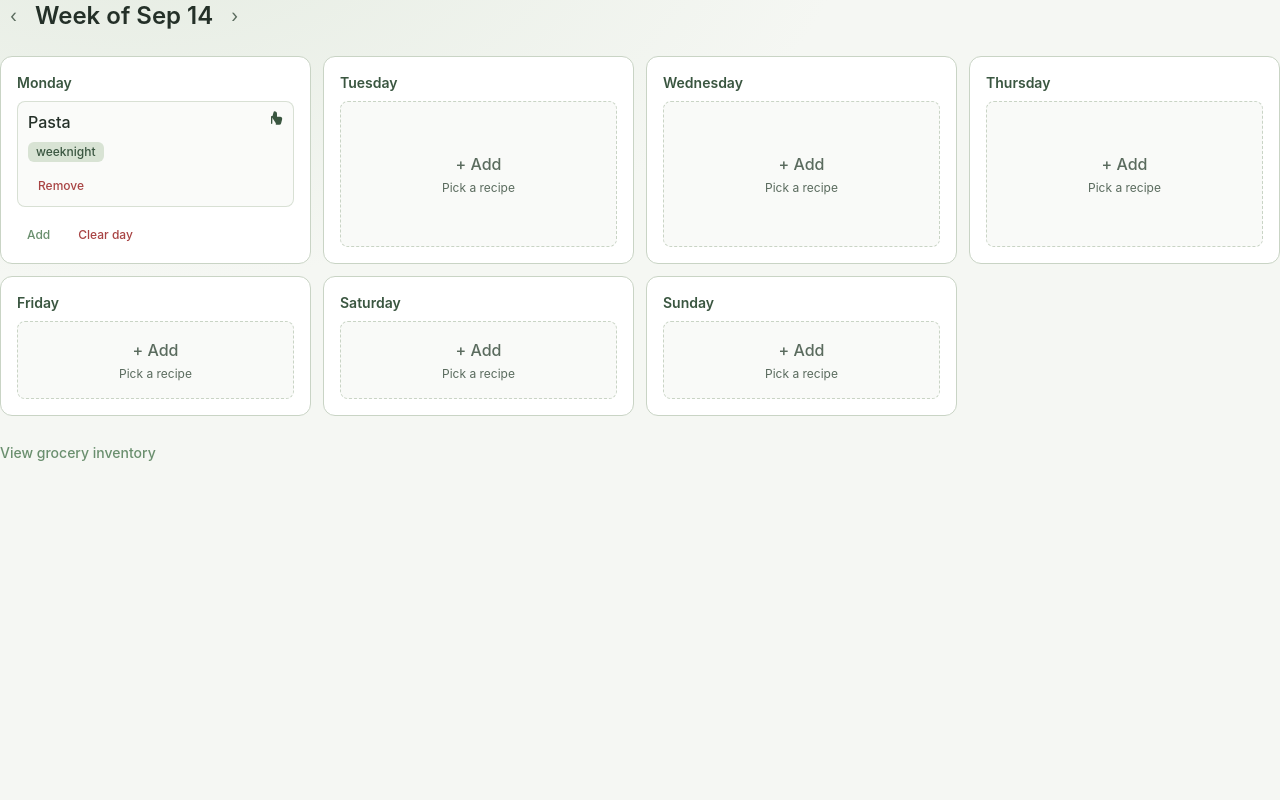
Test case: WeeklyBoardPage › adds a second recipe without removing the first
Expected: the text "Pasta" is shown, [28,110,70,134]
Click the button "Add".
click(39, 235)  # box [17,223,60,247]
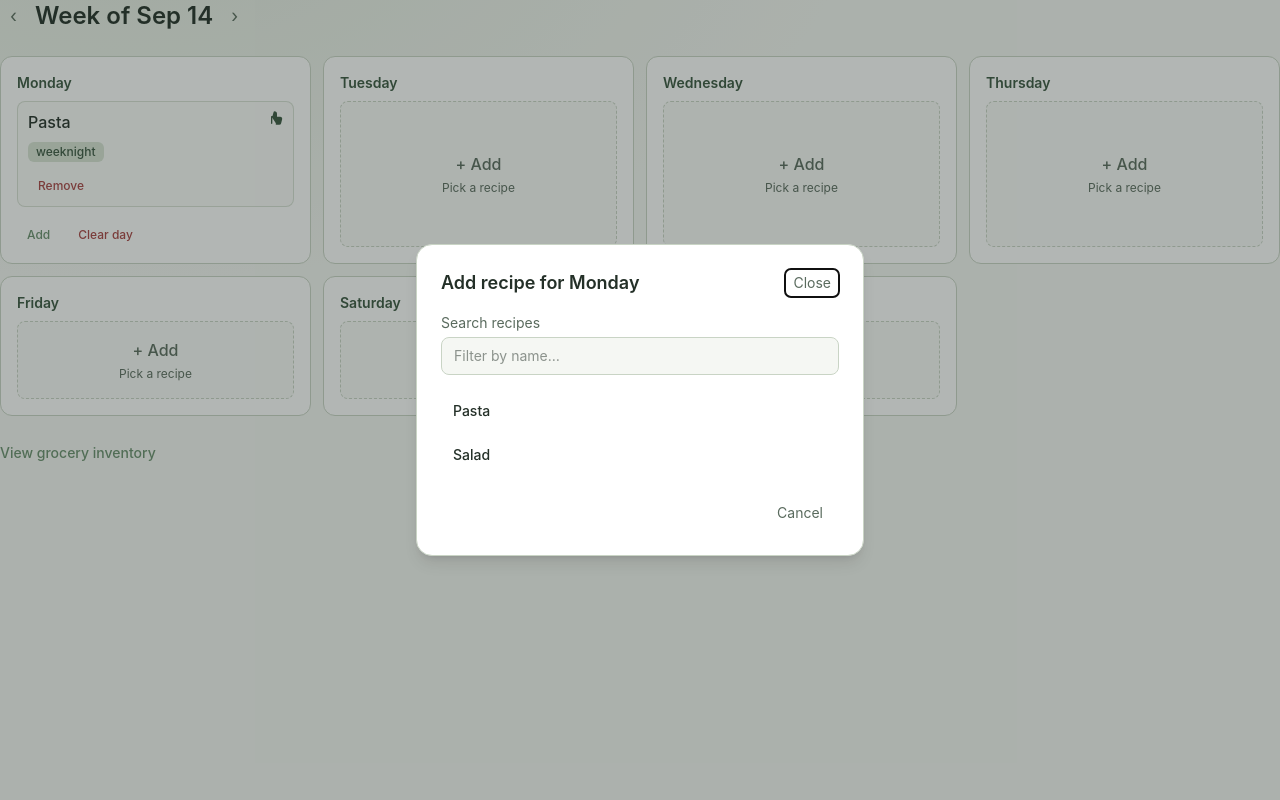
Click the button "Salad".
click(472, 454)  # box [441,435,839,475]
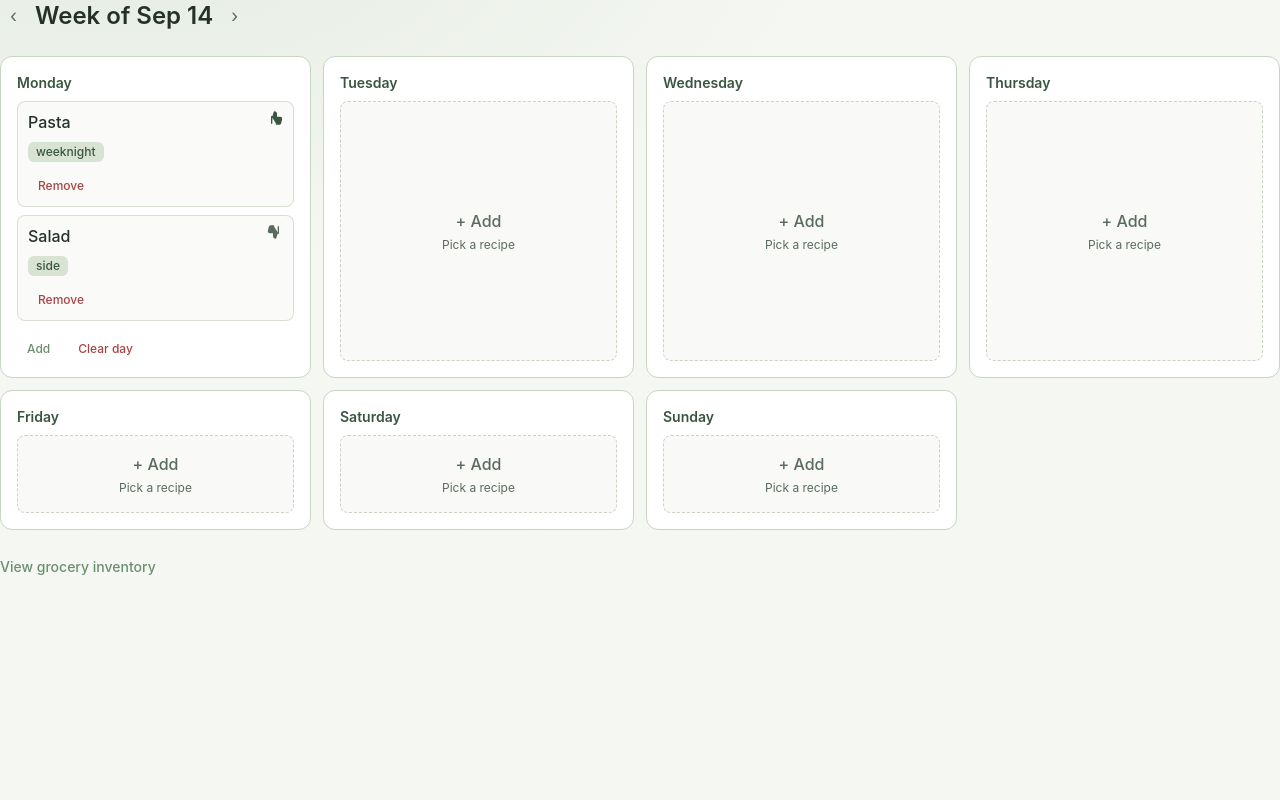
Expected: the text "Pasta" is shown, [28,110,70,134]
Now the text "Salad" is shown, box [28,224,70,248]
Now the text "side" is shown, box [28,256,68,276]
